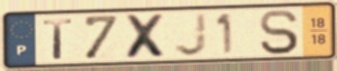1: (213, 11, 235, 56)
7: (82, 14, 122, 62)
J: (172, 11, 210, 58)
S: (258, 8, 301, 57)
T: (41, 17, 76, 61)
X: (123, 12, 171, 60)
